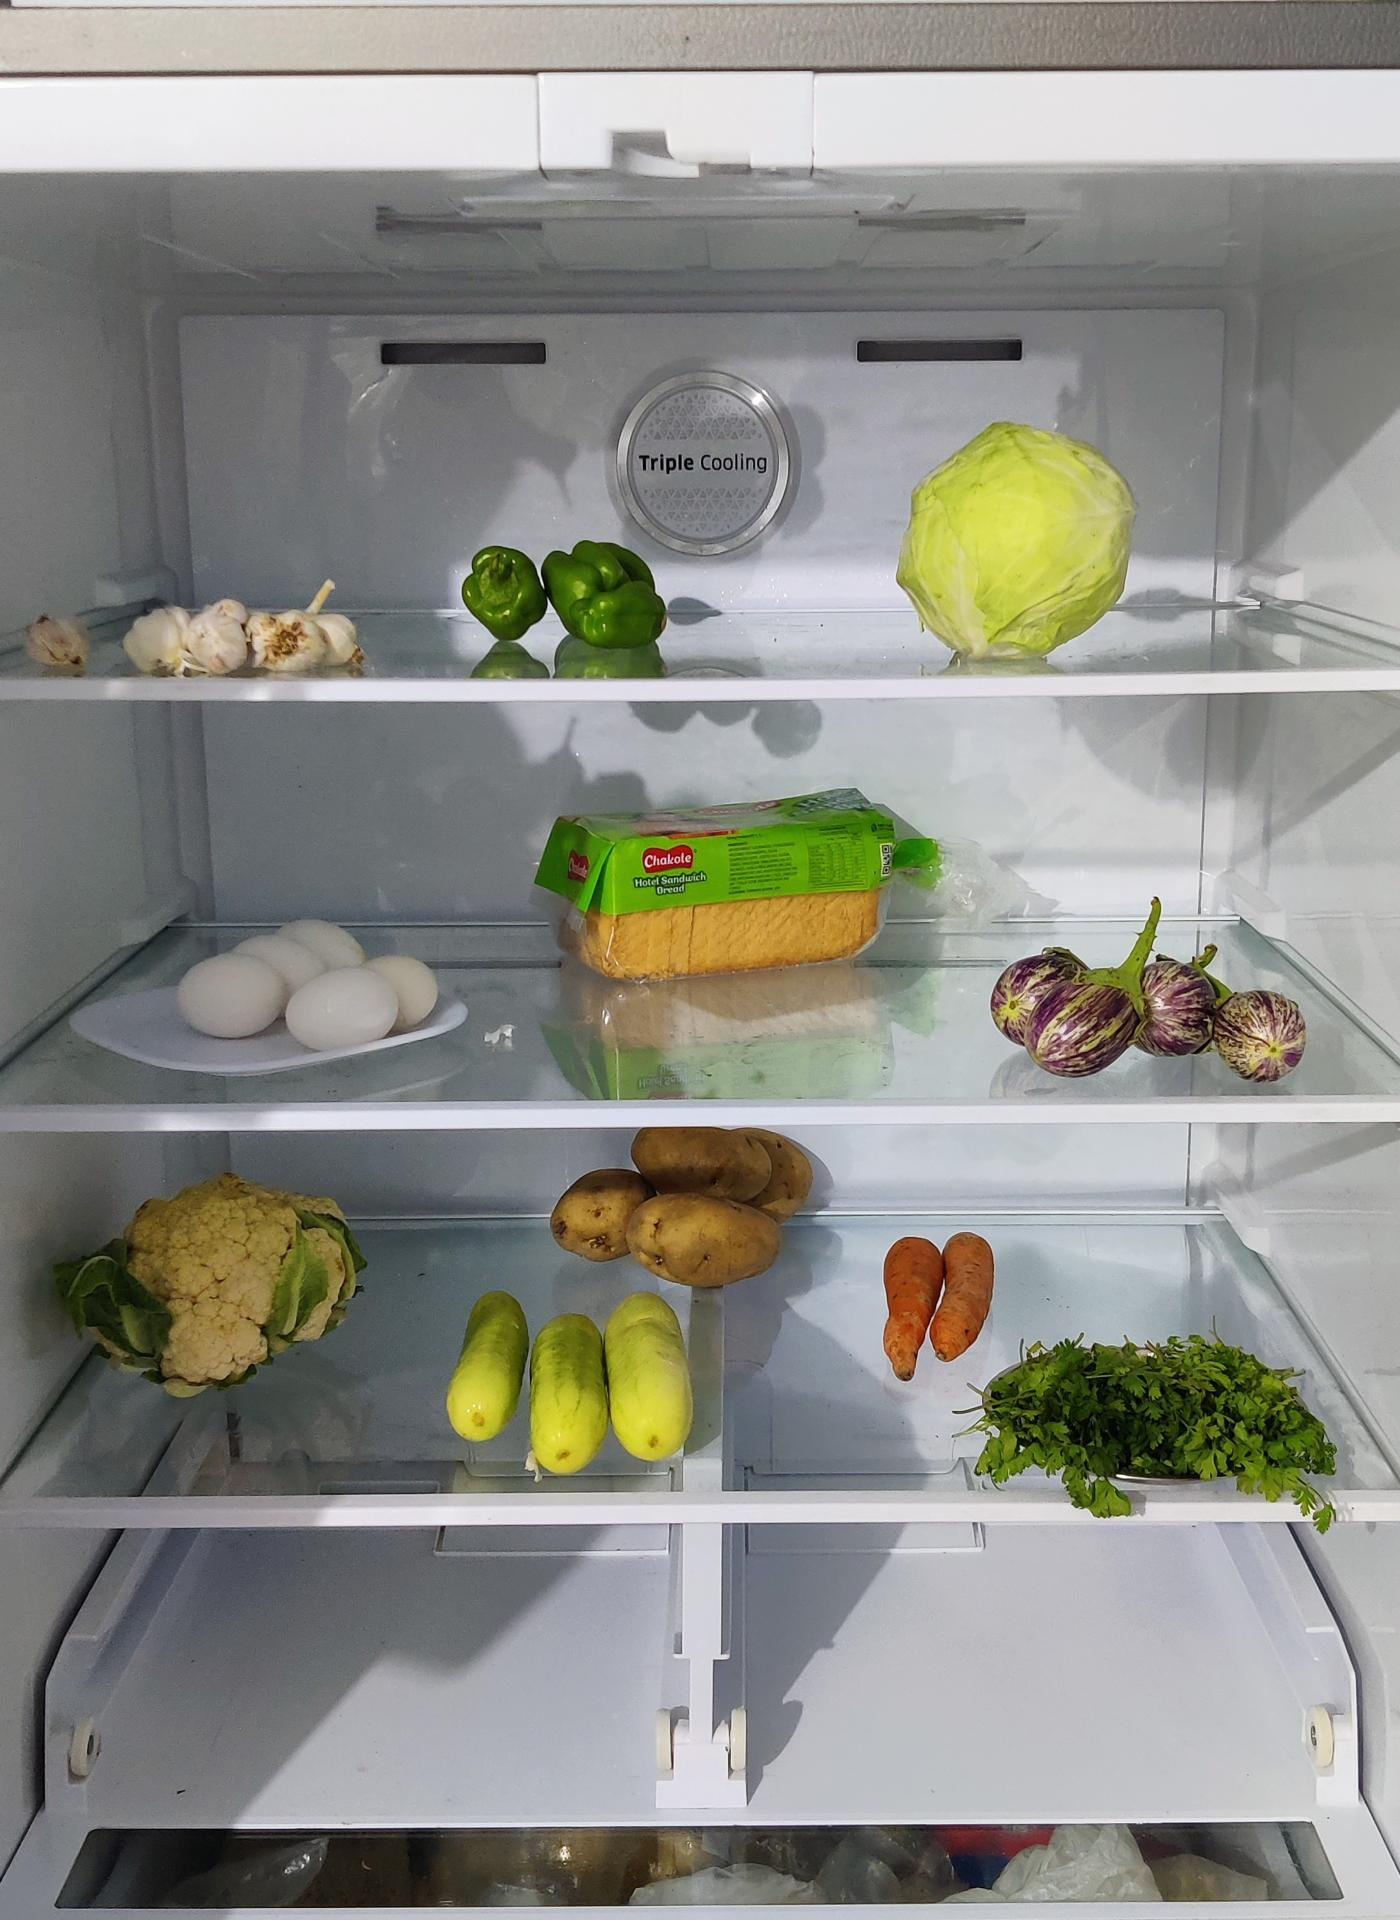bread: (544, 787, 927, 981)
brinjal: (999, 929, 1325, 1084)
cabbage: (895, 428, 1136, 666)
capsicum: (467, 541, 678, 663)
carrots: (881, 1230, 999, 1377)
cauliflower: (67, 1172, 359, 1388)
coriander: (980, 1337, 1339, 1495)
cucumber: (458, 1285, 705, 1464), (444, 1289, 529, 1449)
egg: (180, 908, 444, 1049)
garlic: (125, 583, 367, 681)
potato: (562, 1143, 841, 1278)
